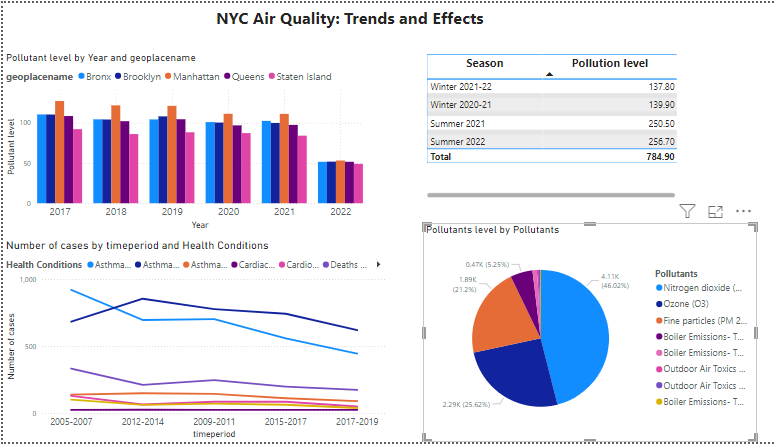

Layout of this report page (visuals, bound fields, positions):
{"tool":"powerbi","page":{"name":"Page 1","canvas":[1280,720],"ordinal":0},"visuals":[{"type":"clusteredColumnChart","fields":{"Category":["air_quality.date.Variation.Date Hierarchy.Year"],"Series":["geo_loc.geoplacename"],"Y":["air_quality.datavalue"]},"box":[0,78.8,595,297.5],"z":0},{"type":"lineChart","fields":{"Y":["air_quality.datavalue"],"Series":["health.name"],"Category":["air_quality.timeperiod"]},"box":[0,387.5,632.5,332.5],"z":2000},{"type":"pieChart","fields":{"Category":["air_quality.name"],"Y":["air_quality.datavalue"]},"box":[688.8,360,591.2,360],"z":3000},{"type":"textbox","box":[337.5,0,461.2,56.2],"z":5001},{"type":"tableEx","fields":{"Values":["air_quality.timeperiod","air_quality.datavalue"]},"box":[798.8,78.8,421.2,246.2],"z":5002}]}

Visuals, with their boxes in screenshot pixels (x1, y1, x2, y2), scaled from the page's 1280x720 canvas onto the 775x447 screenshot:
clusteredColumnChart - air_quality.date.Variation.Date Hierarchy.Year x geo_loc.geoplacename: bbox=[0, 49, 360, 234]
lineChart - air_quality.datavalue x health.name: bbox=[0, 241, 383, 446]
pieChart - air_quality.name x air_quality.datavalue: bbox=[417, 224, 774, 446]
textbox: bbox=[204, 0, 484, 35]
tableEx - air_quality.timeperiod x air_quality.datavalue: bbox=[484, 49, 739, 202]
